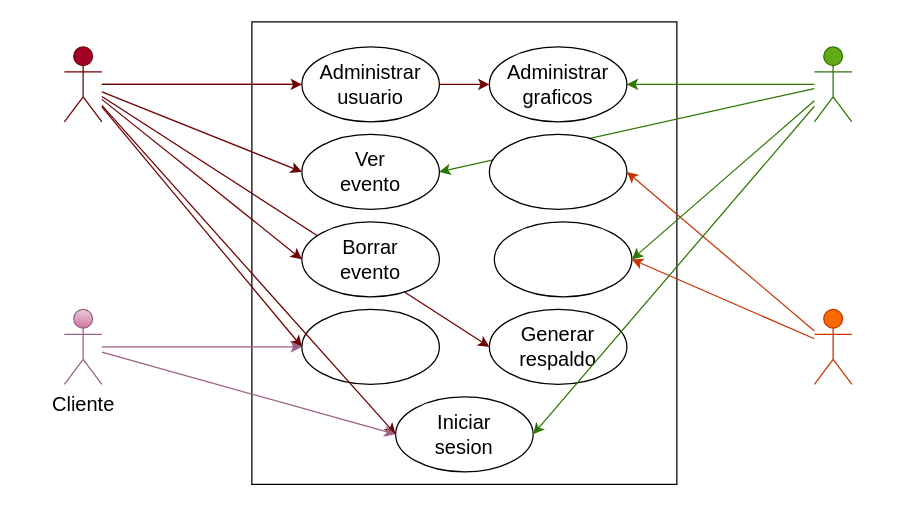
Image size: 900x506. Some labels were removed from this diagram. The shapes that lost their labels are listed below. From the top down, each one's centre as x and y in pixels, then its label:
At [82,84]: "Administrador".
At [557,171]: "Guardar evento".
At [562,259]: "Generar alerta".
At [370,346]: "Ver alerta".
